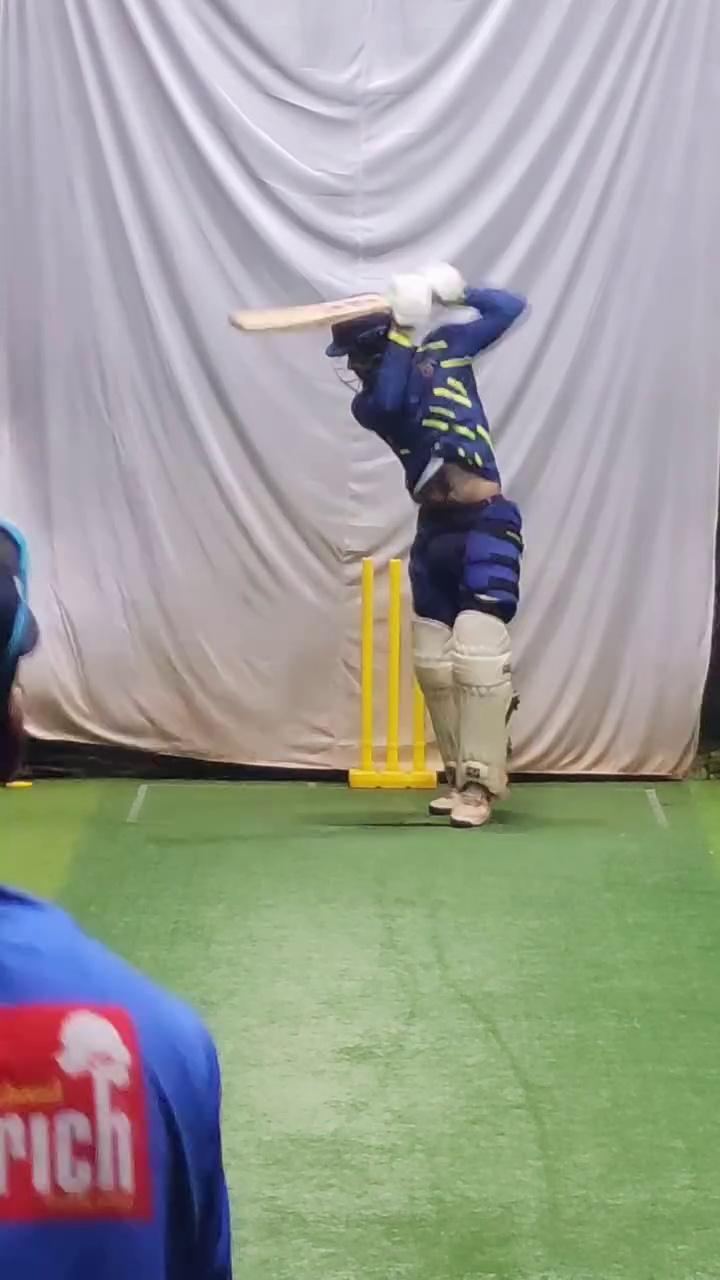bat: (230, 287, 391, 333)
